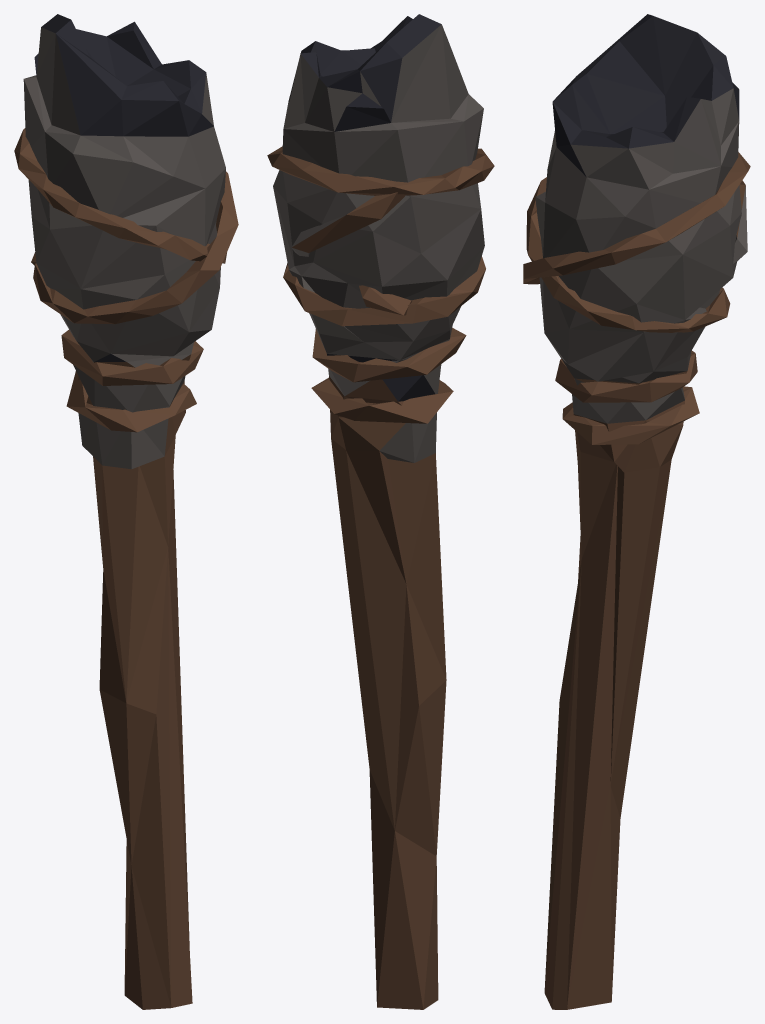
The model's file is Torch.glb.
3 renders of one model, left to right at view 1: azimuth 30°, elevation 25°; view 2: azimuth 150°, elevation 25°; view 3: azimuth 270°, elevation 25°, orthographic. The views are drawn at different scales.
Visible parts, largest first — view 1: Torch; view 2: Torch; view 3: Torch.
Boxes of the visible parts, left/top/right/bottom form: Torch: left=14, top=14, right=238, bottom=1009; Torch: left=267, top=14, right=494, bottom=1009; Torch: left=523, top=14, right=750, bottom=1009.
Bounding box in the file's own units: 0.1072 × 0.55 × 0.1182.
